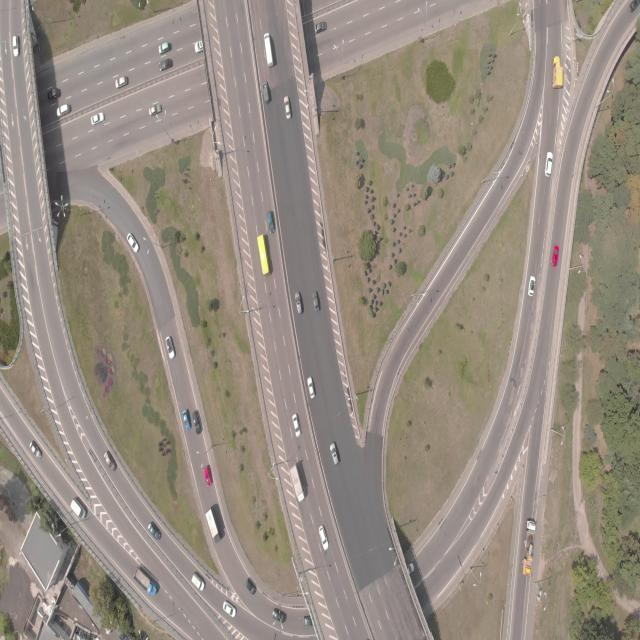vehicle: (522, 518, 536, 576), (134, 566, 158, 596), (257, 233, 270, 276), (290, 464, 304, 502), (206, 508, 220, 543), (552, 55, 564, 88), (70, 498, 86, 518), (264, 32, 273, 66), (126, 232, 140, 252), (318, 524, 328, 550), (104, 450, 116, 470), (148, 522, 161, 540), (292, 412, 301, 437), (223, 600, 236, 617), (166, 336, 176, 358), (193, 410, 202, 434), (192, 572, 204, 590), (29, 441, 41, 458), (545, 151, 553, 176), (330, 442, 339, 464), (272, 608, 286, 622), (262, 80, 270, 104), (284, 95, 292, 119), (183, 408, 191, 431), (148, 102, 162, 115), (57, 103, 71, 116), (312, 290, 320, 312), (268, 210, 276, 232), (307, 376, 315, 398), (158, 41, 171, 54), (92, 112, 105, 125), (204, 465, 212, 486), (12, 35, 20, 56), (246, 578, 256, 594), (528, 276, 536, 296), (552, 246, 560, 266), (48, 87, 61, 99), (115, 76, 128, 88), (295, 292, 302, 314), (160, 58, 172, 70), (315, 20, 327, 32), (629, 0, 640, 12), (194, 40, 203, 52), (303, 616, 313, 626), (406, 562, 414, 574)
